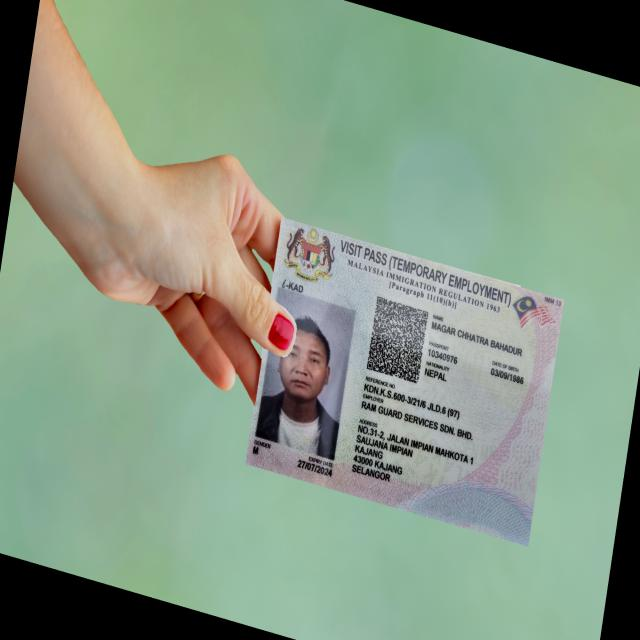ikad-temp: (245, 216, 564, 547)
